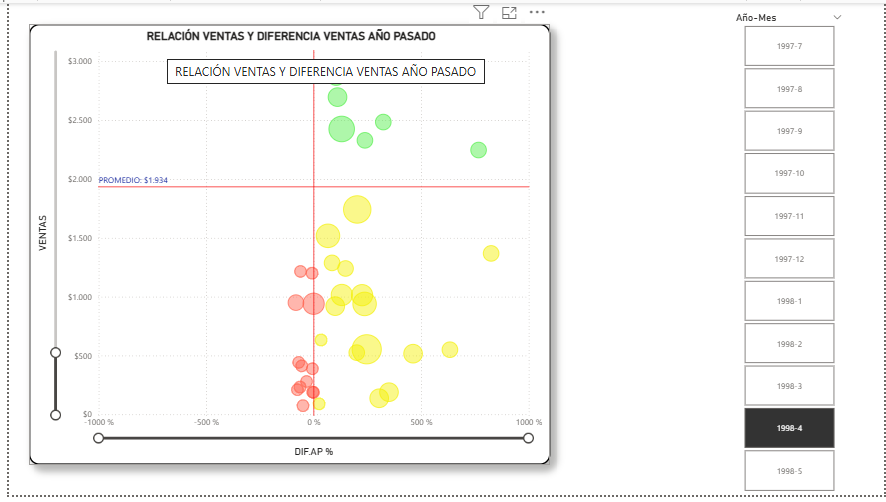

This screenshot's page, from the dashboard's own definition file:
{"tool":"powerbi","page":{"name":"DISPERSIÓN","canvas":[1280,720],"ordinal":0},"visuals":[{"type":"scatterChart","title":"RELACIÓN VENTAS Y DIFERENCIA VENTAS AÑO PASADO","fields":{"Category":["Products.ProductName"],"Y":["MEDIDAS.VENTAS"],"X":["MEDIDAS.DIF.AP %"],"Size":["MEDIDAS.CANTIDAD ORDENES"]},"box":[28.6,30.4,763.4,645.4],"z":0},{"type":"slicer","fields":{"Values":["CALENDARIO.Año-Mes"]},"box":[1051.2,8.9,180.6,711.5],"z":1000}]}

Visuals, with their boxes on the page's 1280x720 design canvas (x1, y1, x2, y2). These are canvas units, not pixel positions in the 886x502 screenshot, which may show the page scaled, cropped or inside an application window:
"RELACIÓN VENTAS Y DIFERENCIA VENTAS AÑO PASADO" scatterChart: l=29, t=30, r=792, b=676
slicer - CALENDARIO.Año-Mes: l=1051, t=9, r=1232, b=720
